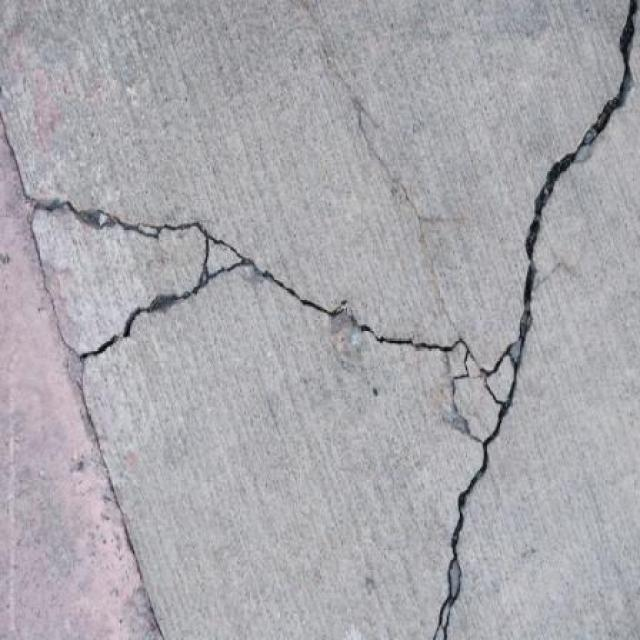Crack: (31, 0, 636, 639), (380, 159, 430, 253), (1, 115, 28, 197), (146, 588, 168, 639), (324, 50, 349, 88), (434, 284, 455, 329)
